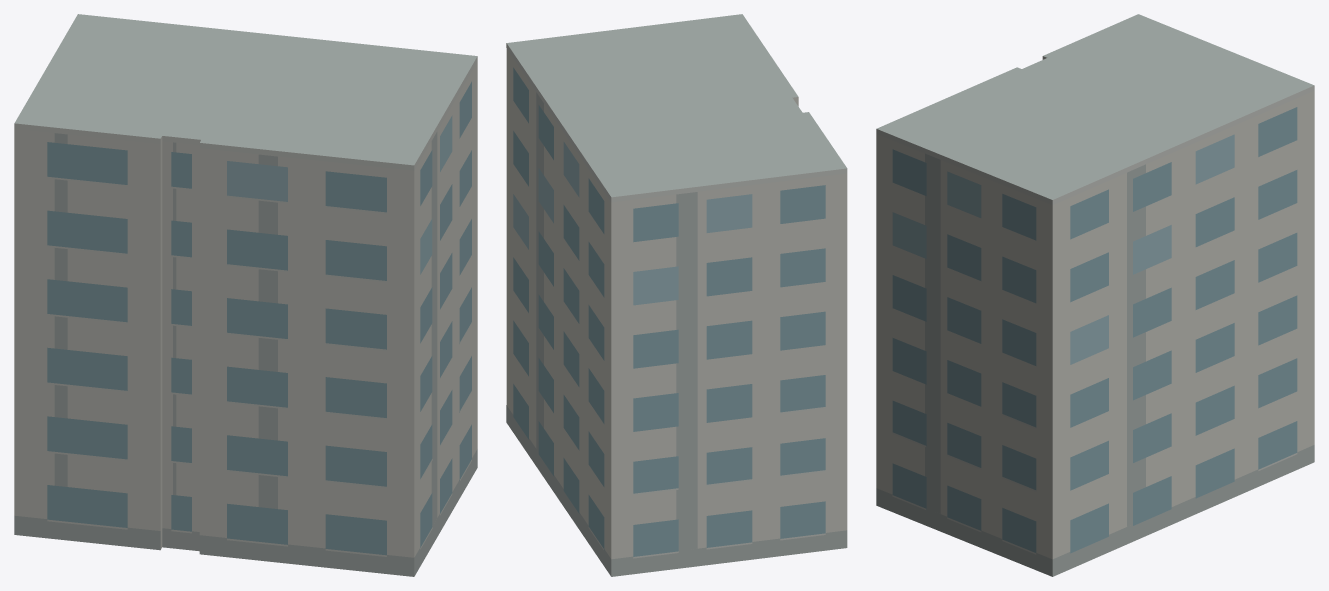
File: survey-upis-32749478.glb
The picture shows the model from 3 angles, left to right: view 1: azimuth 30°, elevation 25°; view 2: azimuth 150°, elevation 25°; view 3: azimuth 270°, elevation 25°; orthographic projection. The views are drawn at different scales.
Visible parts, largest first — view 1: survey-upis-32749478.tmp; view 2: survey-upis-32749478.tmp; view 3: survey-upis-32749478.tmp.
Part boxes in pixels (x1,y1,x2,y2): survey-upis-32749478.tmp: (14, 14, 477, 576); survey-upis-32749478.tmp: (506, 14, 847, 576); survey-upis-32749478.tmp: (876, 14, 1314, 576).
Bounding box in the file's own units: 19.28 × 18.2 × 19.18.
